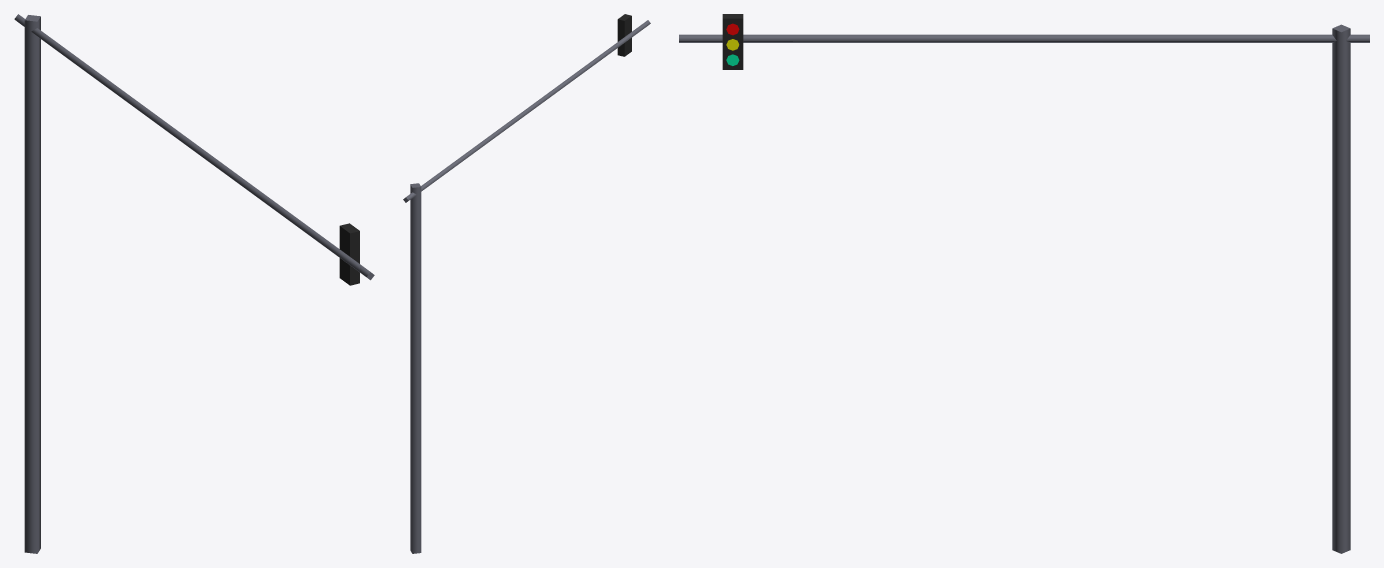
File: Low_TrafficLight.fbx
The picture shows the model from 3 angles, left to right: view 1: azimuth 30°, elevation 25°; view 2: azimuth 150°, elevation 25°; view 3: azimuth 270°, elevation 25°; orthographic projection. The views are drawn at different scales.
Parts seen in each view (by area): view 1: Low_TrafficLight; view 2: Low_TrafficLight; view 3: Low_TrafficLight.
Part boxes in pixels (bbox=[...]): Low_TrafficLight: bbox=[14, 14, 374, 553]; Low_TrafficLight: bbox=[403, 14, 650, 553]; Low_TrafficLight: bbox=[679, 14, 1369, 553].
Bounding box in the file's own units: 0.2031 × 5.15 × 6.
